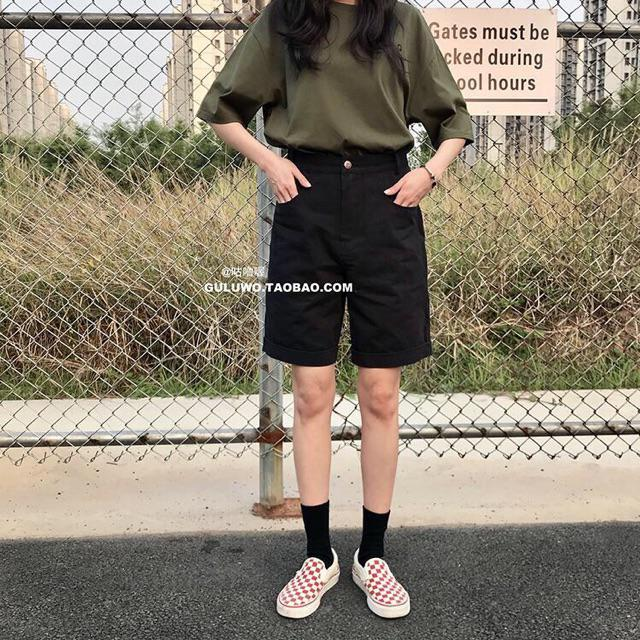Shirt: (198, 0, 478, 147)
